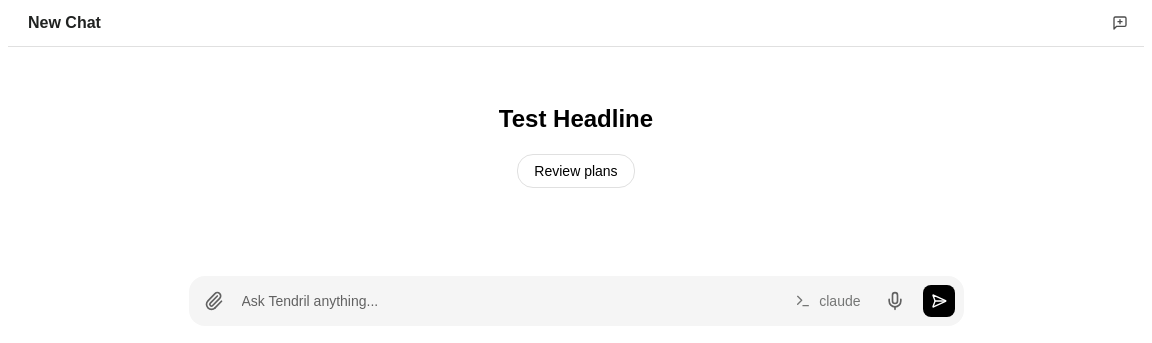
Test case: ChatWidget - Sample Prompts › clicking a chip fills the textarea without sending
Click the button "Review plans" at (576, 171), box left=517, top=154, right=635, bottom=188
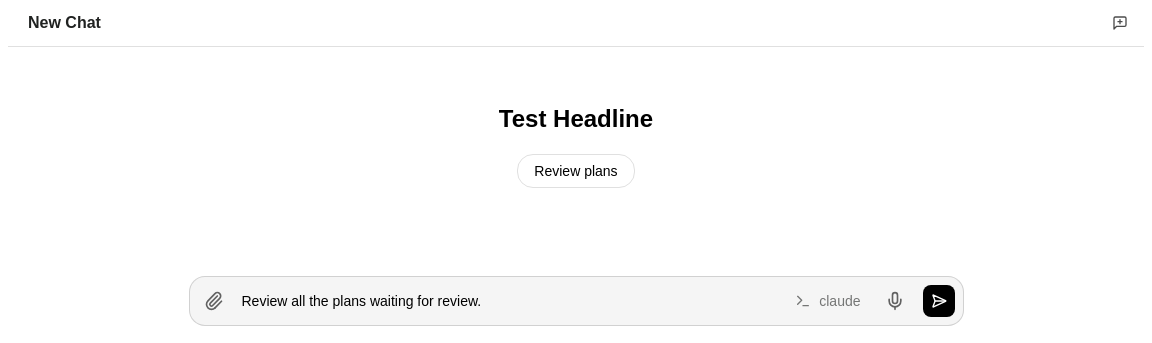
expect the text box holds "Review all the plans waiting for review.": met, box left=242, top=285, right=777, bottom=317
